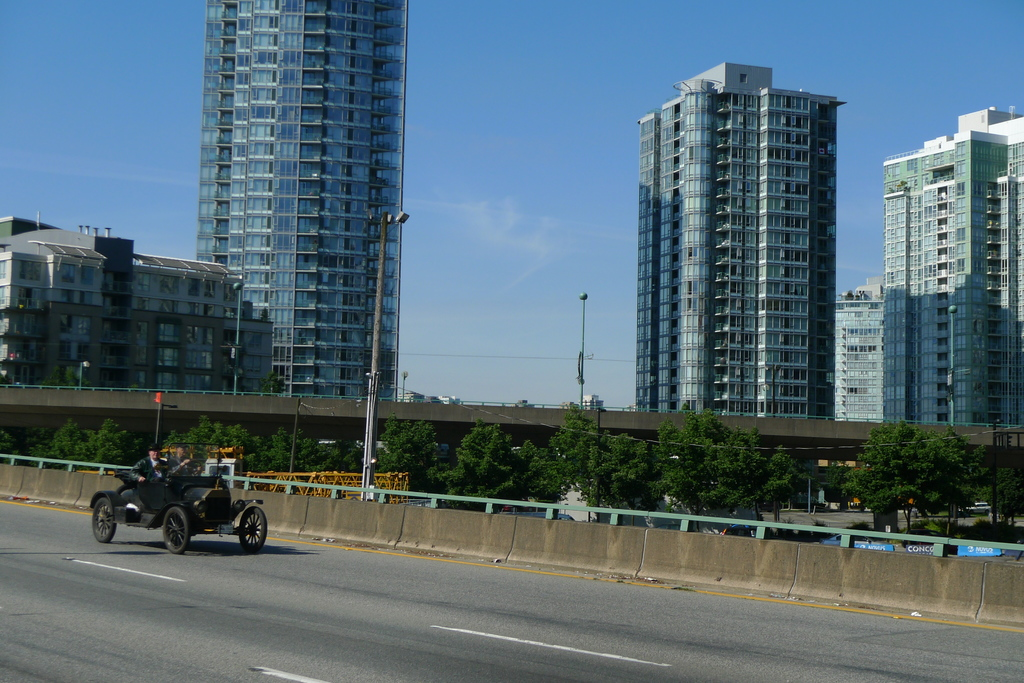Car: (78, 456, 273, 560)
